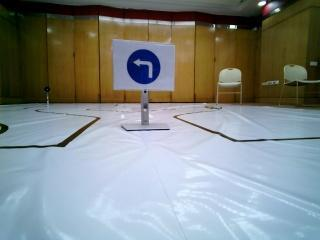left: (116, 41, 171, 85)
